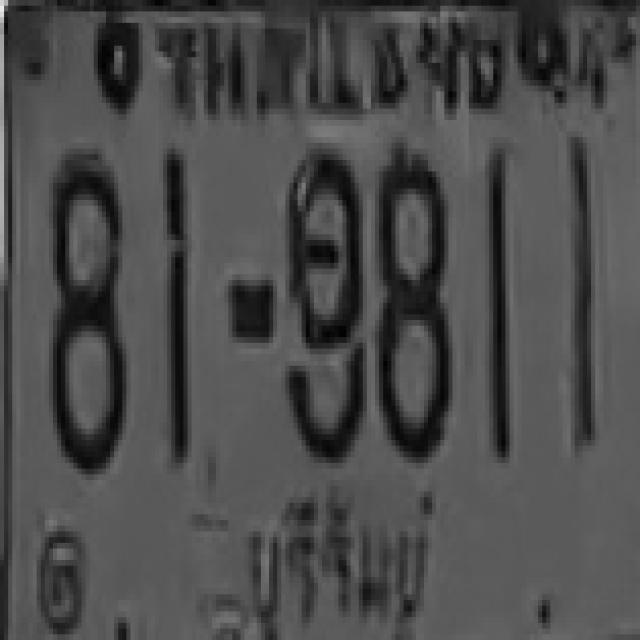1: (161, 146, 190, 420), (485, 146, 510, 420), (569, 134, 593, 397)
8: (49, 148, 122, 468), (375, 146, 448, 454)
9: (281, 149, 363, 457)
Buriram: (224, 470, 448, 636)
